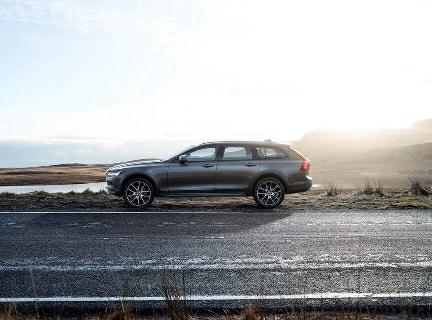沃尔沃-V90: (99, 139, 317, 217)
